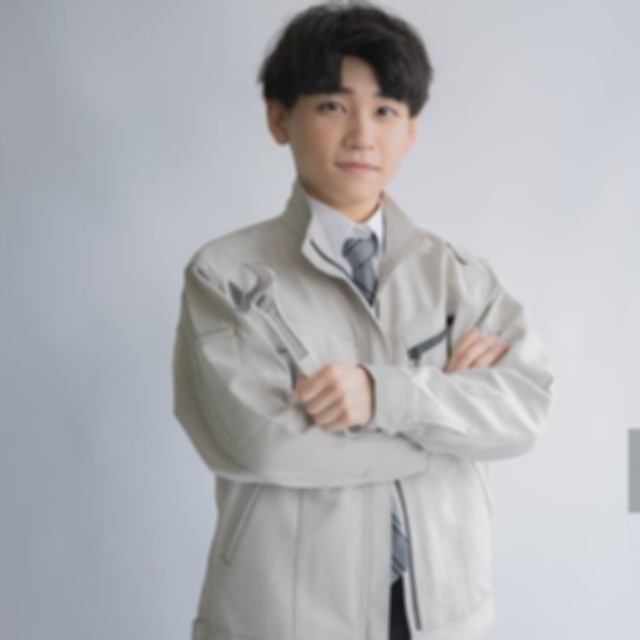Sin_Casco_Mascarrilla: (258, 7, 431, 195)
Sin_Chaleco: (200, 196, 486, 601)
